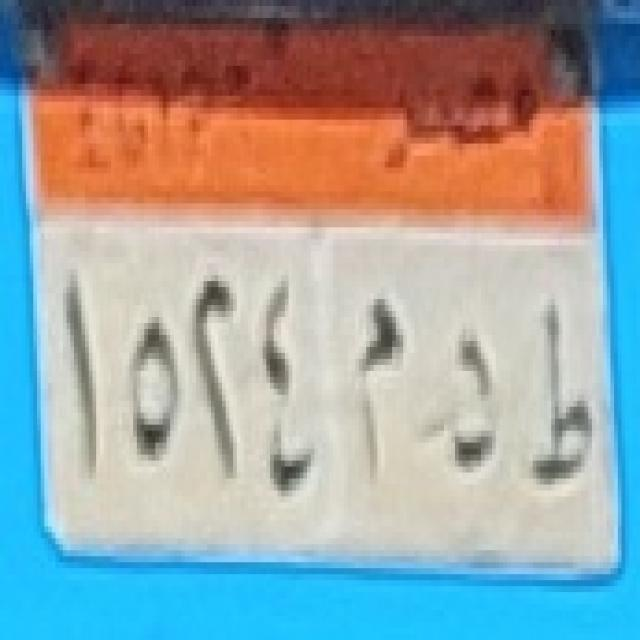1: (52, 259, 120, 505)
2: (183, 254, 250, 506)
4: (243, 261, 324, 515)
5: (118, 300, 191, 480)
Meem: (334, 286, 412, 516)
Taa: (512, 294, 606, 500)
daal: (432, 304, 508, 490)
